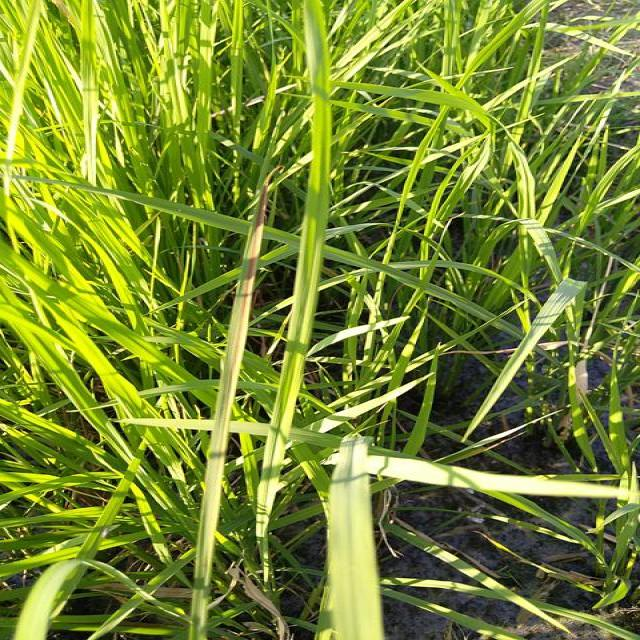Leaf Streak: (195, 186, 268, 631)
